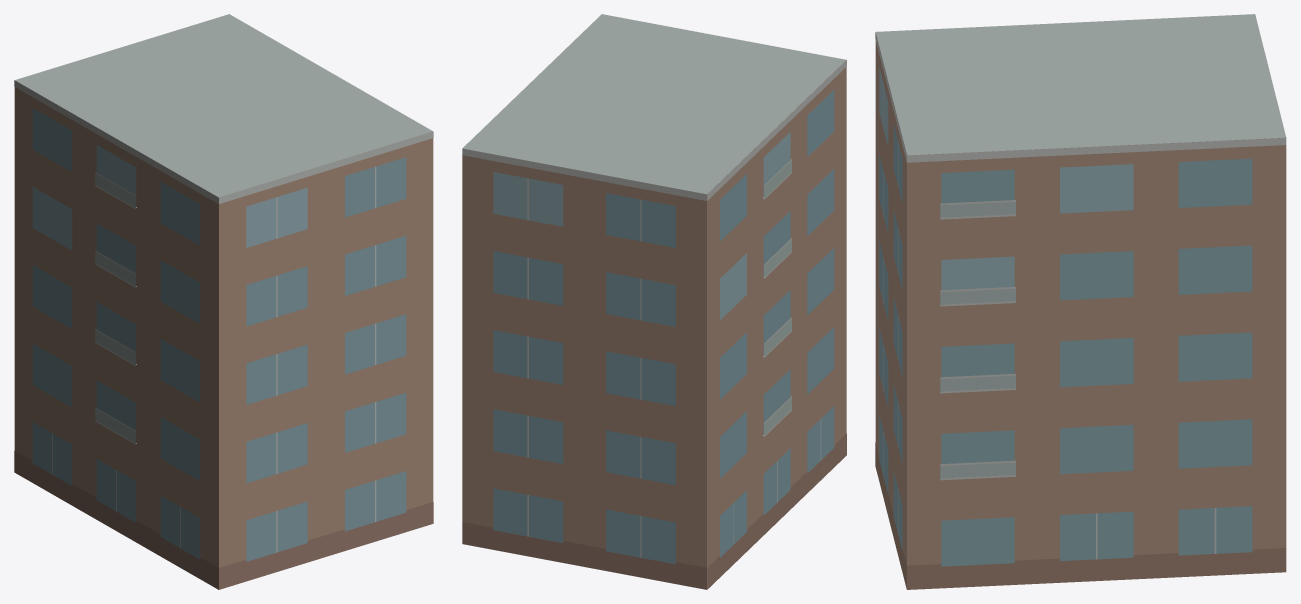
Rendered from survey-upis-32890235.glb.
The picture shows the model from 3 angles, left to right: view 1: azimuth 30°, elevation 25°; view 2: azimuth 150°, elevation 25°; view 3: azimuth 270°, elevation 25°; orthographic projection. The views are drawn at different scales.
Visible parts, largest first — view 1: survey-upis-32890235.tmp; view 2: survey-upis-32890235.tmp; view 3: survey-upis-32890235.tmp.
Boxes of the visible parts, <box> form: survey-upis-32890235.tmp: <box>14,14,433,589</box>; survey-upis-32890235.tmp: <box>462,14,846,589</box>; survey-upis-32890235.tmp: <box>875,14,1286,589</box>.
Bounding box in the file's own units: 10.1 × 14.45 × 12.39.
